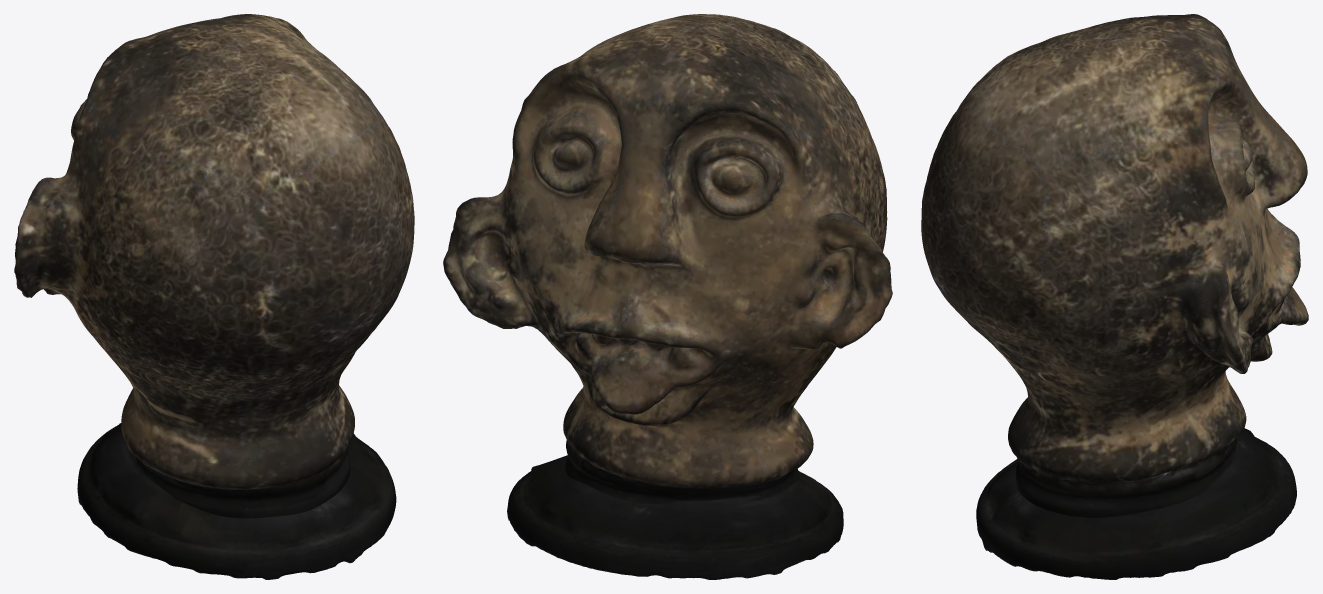
The model's file is preview.glb.
3 renders of one model, left to right at view 1: azimuth 30°, elevation 25°; view 2: azimuth 150°, elevation 25°; view 3: azimuth 270°, elevation 25°, orthographic. The views are drawn at different scales.
Visible parts, largest first — view 1: Object_2; view 2: Object_2; view 3: Object_2.
Boxes of the visible parts, left/top/right/bottom form: Object_2: left=14, top=14, right=414, bottom=579; Object_2: left=443, top=14, right=892, bottom=579; Object_2: left=921, top=14, right=1308, bottom=579.
Size of the model in its own units: 231 by 278 by 200.
1 material, 1 textured.
